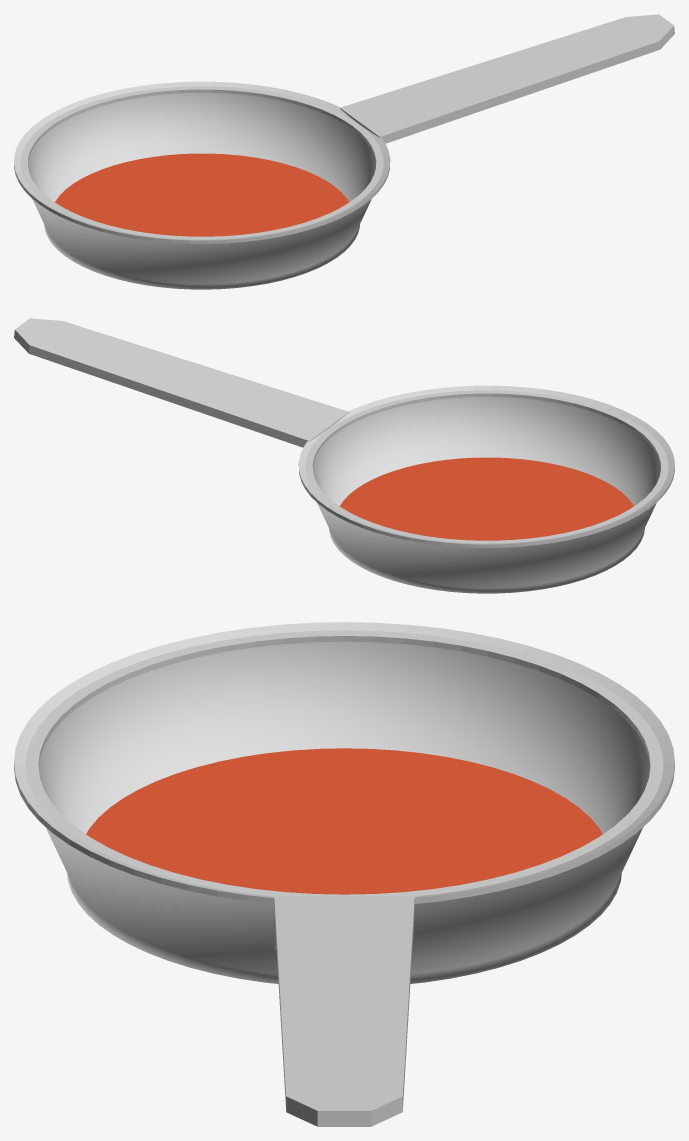
Rendered from Skovorodka.fbx.
The picture shows the model from 3 angles, top to bottom: view 1: azimuth 30°, elevation 25°; view 2: azimuth 150°, elevation 25°; view 3: azimuth 270°, elevation 25°; orthographic projection. The views are drawn at different scales.
Parts seen in each view (by area): view 1: Куб.001; view 2: Куб.001; view 3: Куб.001.
Boxes of the visible parts, left/top/right/bottom form: Куб.001: left=14, top=14, right=674, bottom=289; Куб.001: left=14, top=318, right=674, bottom=593; Куб.001: left=14, top=622, right=674, bottom=1126.
Size of the model in its own units: 4.59 by 0.625 by 2.38.
